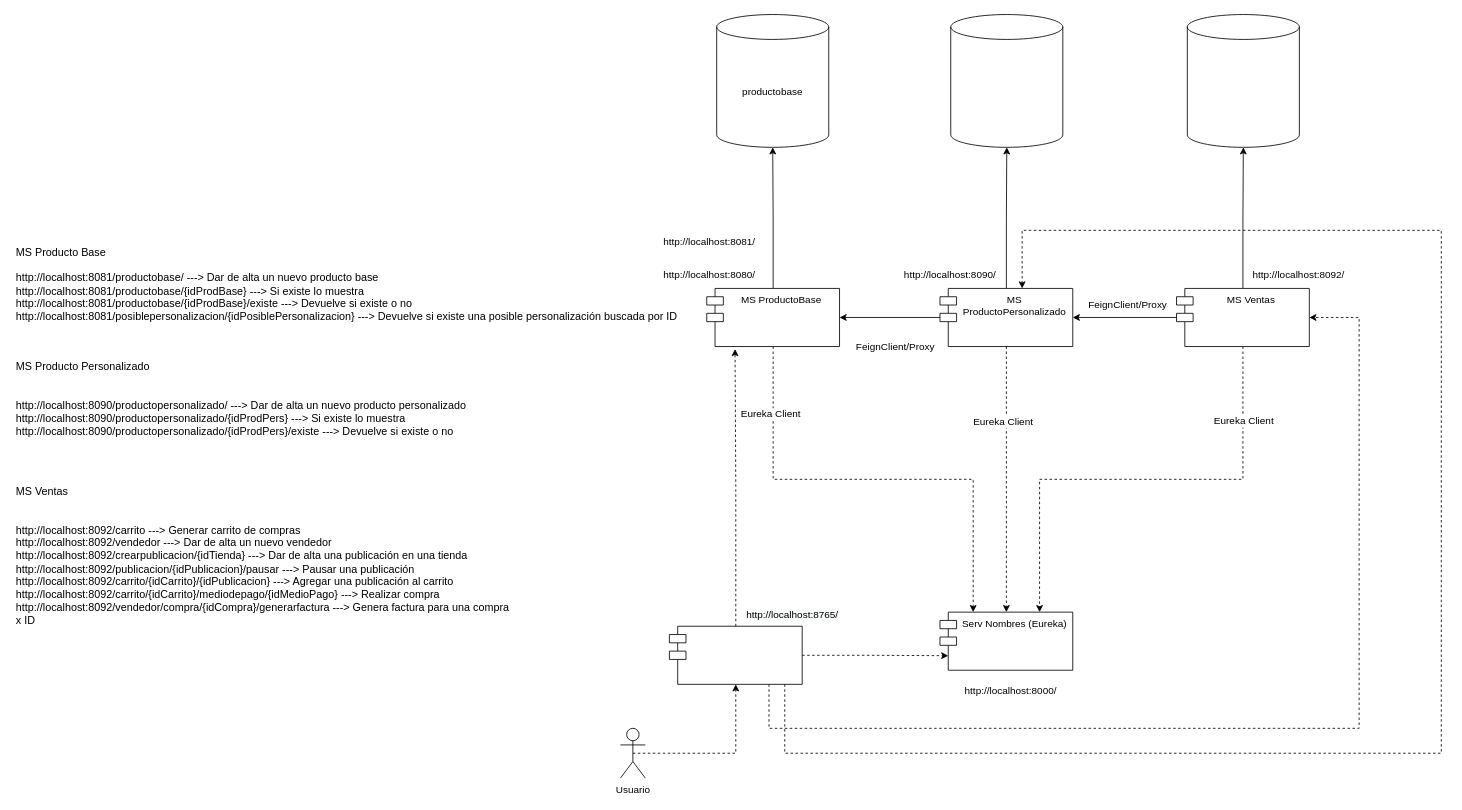
This 1462x810 diagram has some shape labels left out. Each missing label, with the centre of its shape:
"Gateway" belongs at point 735,654.
"productopersonalizado" belongs at point 1006,80.
"ventas" belongs at point 1242,80.
